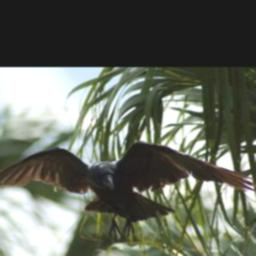Crow: (0, 139, 256, 238)
